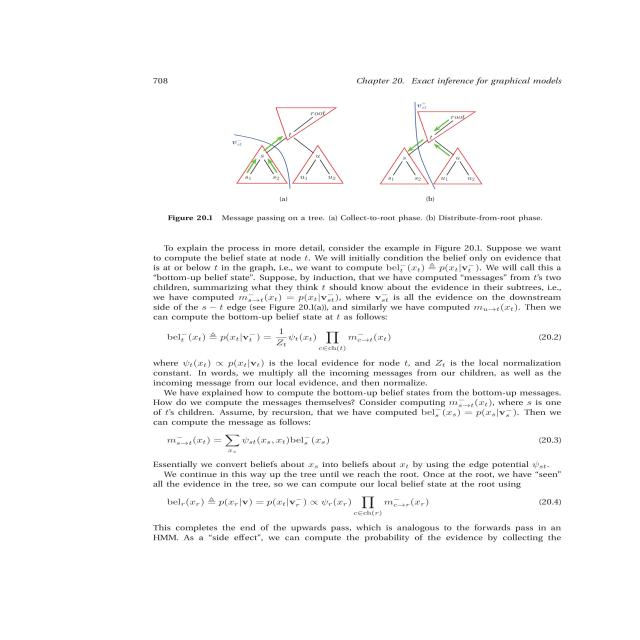diagram: (148, 90, 613, 233)
